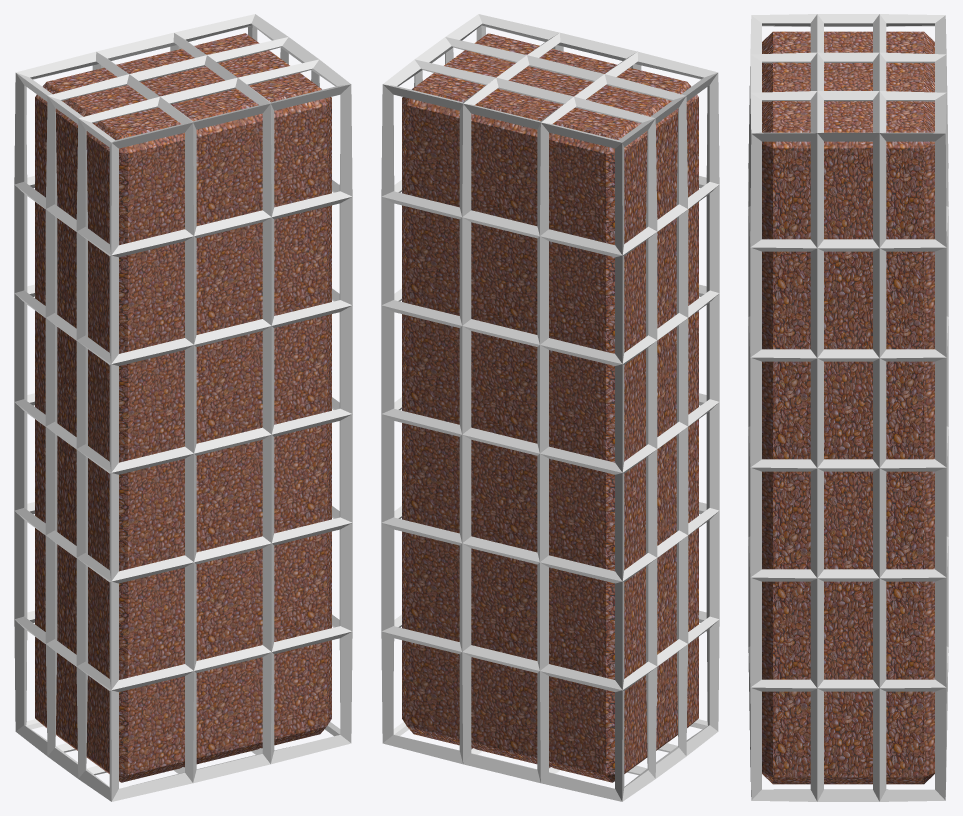
File: Project BirdHouseFood2.fbx
3 views of the same model, side by side, from view 1: azimuth 30°, elevation 25°; view 2: azimuth 150°, elevation 25°; view 3: azimuth 270°, elevation 25° (orthographic).
Visible parts, largest first — view 1: BirdFood2; view 2: BirdFood2; view 3: BirdFood2.
Part boxes in pixels (x1=…): BirdFood2: x1=14, y1=14, x2=352, y2=801; BirdFood2: x1=381, y1=14, x2=719, y2=801; BirdFood2: x1=748, y1=14, x2=948, y2=801.
Size of the model in its own units: 10.6 by 27.5 by 7.42.
